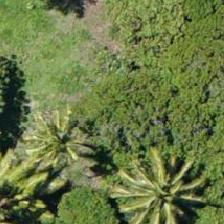coconut_tree: (14, 89, 104, 179), (111, 150, 201, 223)
